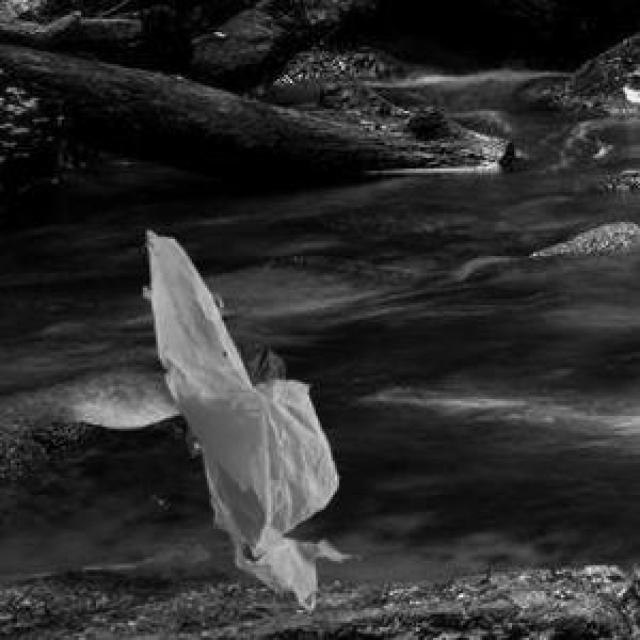miscellaneous trash: (181, 341, 282, 452)
